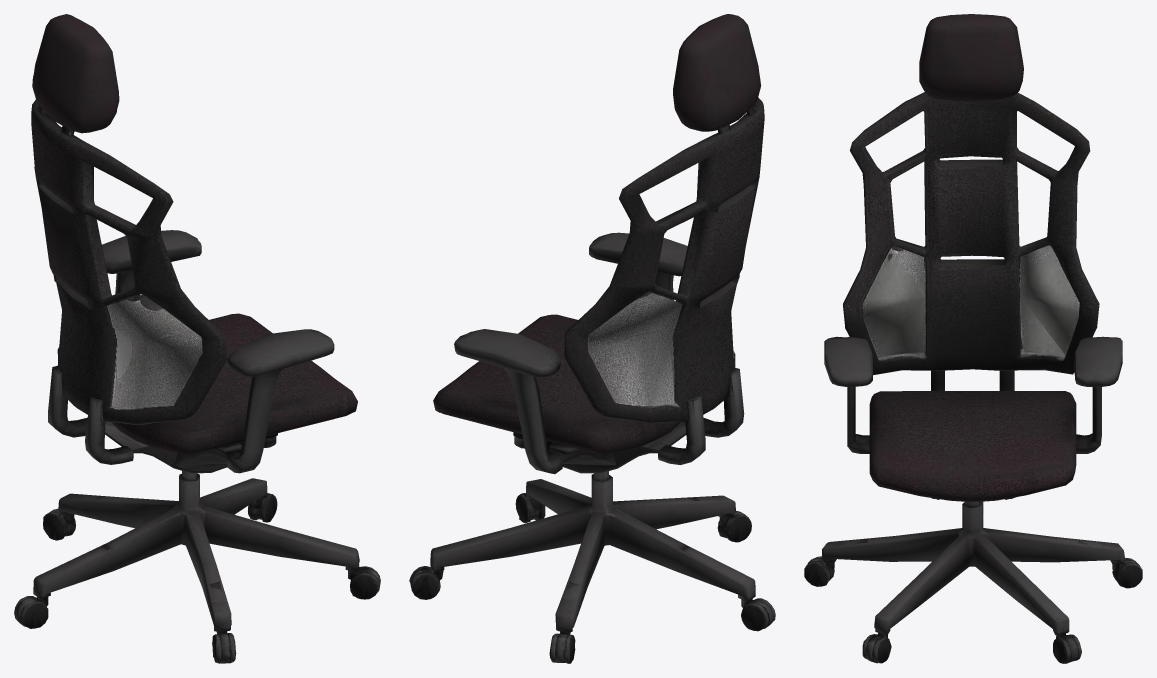
File: office+chair+3d+model.glb
3 views of the same model, side by side, from view 1: azimuth 30°, elevation 25°; view 2: azimuth 150°, elevation 25°; view 3: azimuth 270°, elevation 25° (orthographic). The views are drawn at different scales.
Parts seen in each view (by area): view 1: tripo_node_49147625-14d2-42d5-b1e8-191cb7738844; view 2: tripo_node_49147625-14d2-42d5-b1e8-191cb7738844; view 3: tripo_node_49147625-14d2-42d5-b1e8-191cb7738844.
Boxes of the visible parts, box(x1,y1,x2,y2) form: tripo_node_49147625-14d2-42d5-b1e8-191cb7738844: box(14, 14, 380, 663); tripo_node_49147625-14d2-42d5-b1e8-191cb7738844: box(409, 14, 775, 663); tripo_node_49147625-14d2-42d5-b1e8-191cb7738844: box(804, 14, 1142, 663).
Bounding box in the file's own units: 0.5527 × 0.998 × 0.5684.
Materials: 1 (1 with a texture image).
